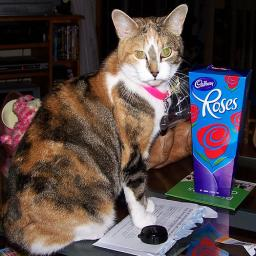catnose: (149, 70, 160, 78)
